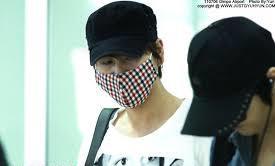OK: (96, 54, 153, 111)
